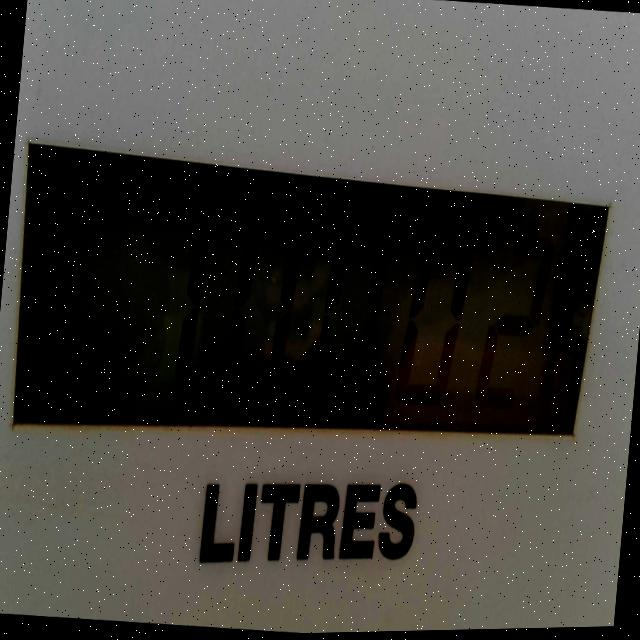.: (365, 372, 392, 412)
0: (215, 205, 308, 412), (307, 204, 392, 418), (396, 219, 481, 405), (474, 234, 553, 415)
1: (170, 198, 227, 410)
